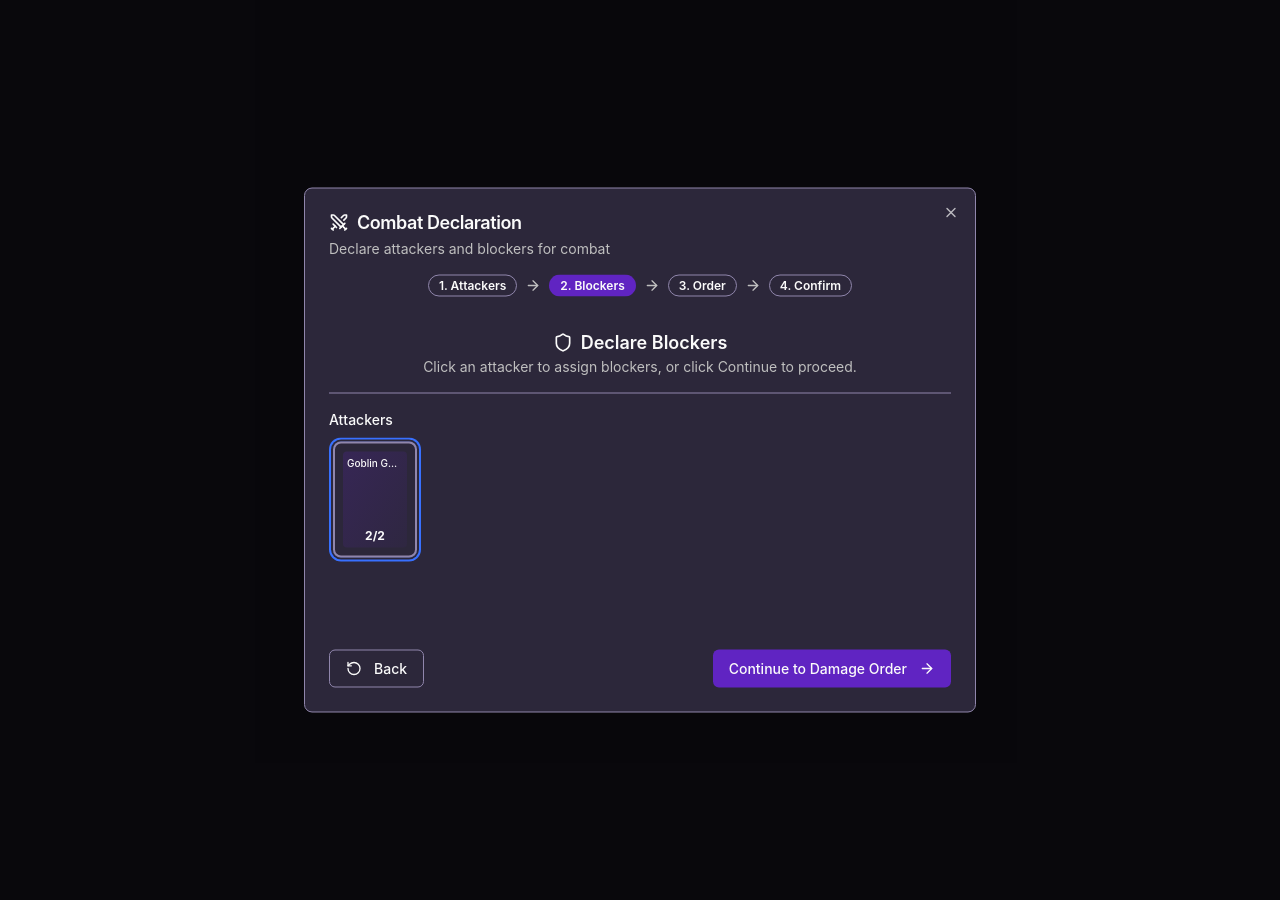
Test: CombatDeclaration blocker buttons (issue #1600) › exposes the disabled reason on a blocker that cannot block
This screenshot has width=1280, height=900.
Click the button "Goblin Guide 2/2".
click(375, 500)  # box x1=333 y1=442 x2=417 y2=558
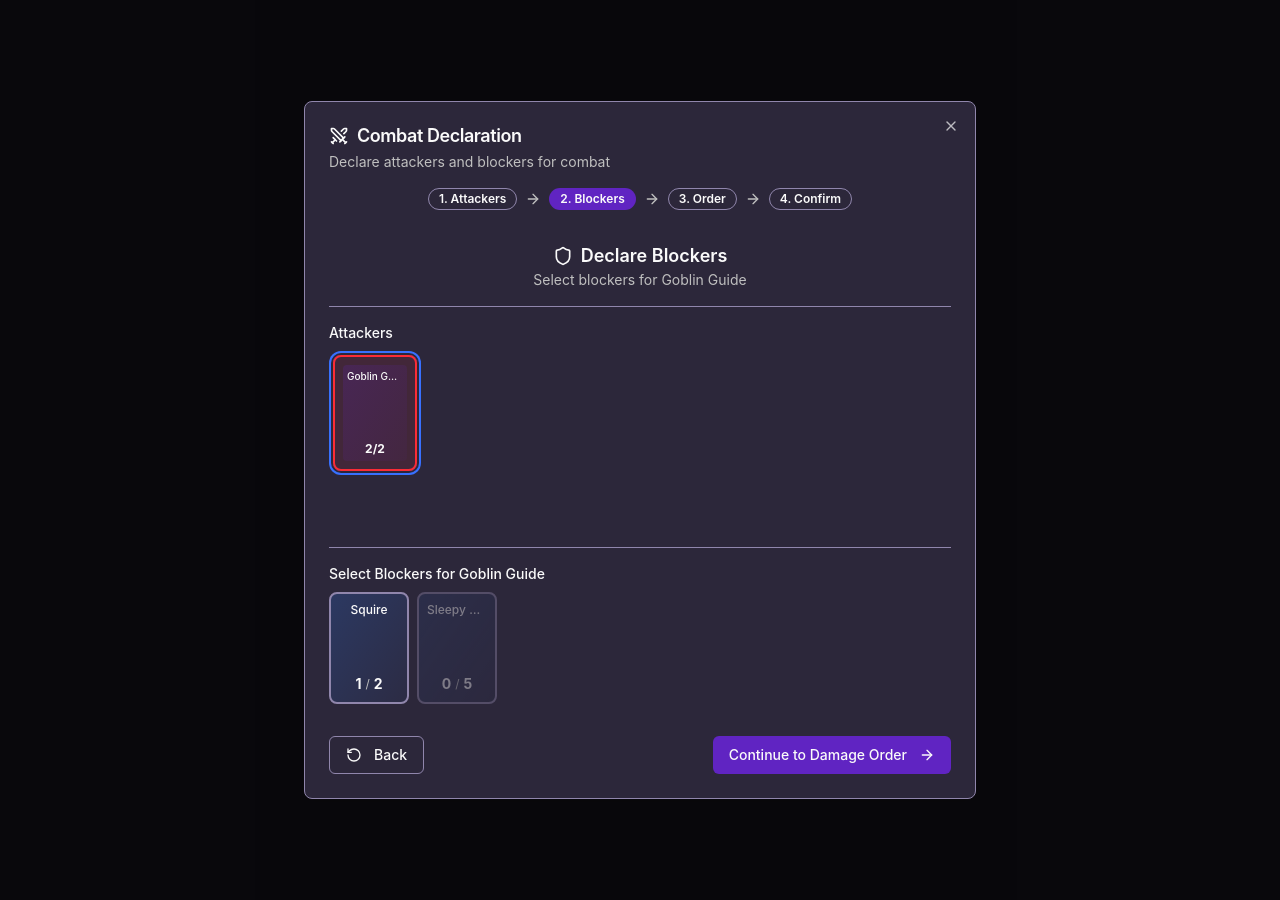
Expected: the button "Sleepy Wall 0 / 5" is disabled, x1=417 y1=592 x2=497 y2=704
Expected: the button "Squire 1 / 2" is enabled, x1=329 y1=592 x2=409 y2=704
